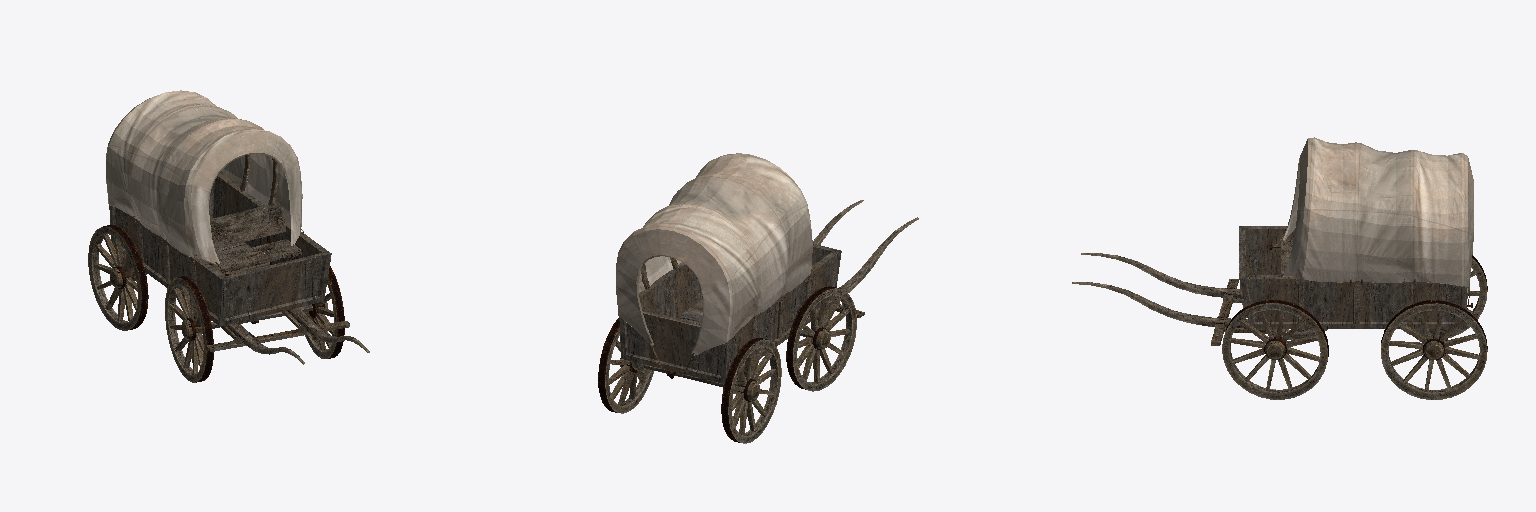
The picture shows the model from 3 angles: view 1: azimuth 30°, elevation 25°; view 2: azimuth 150°, elevation 25°; view 3: azimuth 270°, elevation 25°; orthographic projection.
Visible parts, largest first — view 1: polySurface28_Canvas_0, polySurface181_Frame_0, polySurface133_Wheels_0, polySurface165_Wheels_0, polySurface151_Wheels_0; view 2: polySurface28_Canvas_0, polySurface181_Frame_0, polySurface165_Wheels_0, polySurface133_Wheels_0, polySurface134_Wheels_0; view 3: polySurface28_Canvas_0, polySurface181_Frame_0, polySurface151_Wheels_0, polySurface134_Wheels_0, polySurface133_Wheels_0.
Boxes of the visible parts, box(x1,y1,x2,y2) form: polySurface28_Canvas_0: box(106, 90, 303, 273); polySurface181_Frame_0: box(109, 155, 369, 364); polySurface133_Wheels_0: box(88, 225, 148, 330); polySurface165_Wheels_0: box(165, 276, 213, 382); polySurface151_Wheels_0: box(304, 266, 344, 358); polySurface28_Canvas_0: box(616, 153, 814, 374); polySurface181_Frame_0: box(619, 200, 918, 394); polySurface165_Wheels_0: box(786, 286, 856, 391); polySurface133_Wheels_0: box(721, 338, 781, 443); polySurface134_Wheels_0: box(598, 318, 653, 413); polySurface28_Canvas_0: box(1273, 137, 1473, 309); polySurface181_Frame_0: box(1072, 226, 1472, 345); polySurface151_Wheels_0: box(1222, 300, 1328, 399); polySurface134_Wheels_0: box(1381, 300, 1487, 399); polySurface133_Wheels_0: box(1401, 255, 1487, 337).
Size of the model in its own units: 3.08 by 4.62 by 7.76.
3 materials, 3 textured.